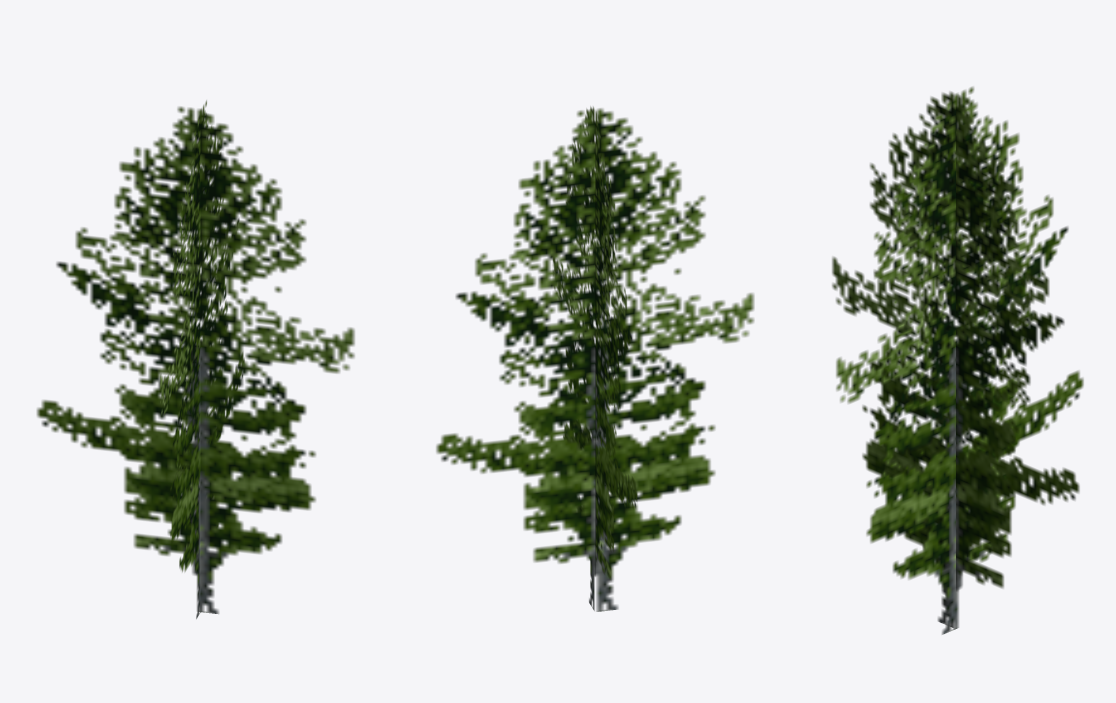
The model's file is tree060.glb.
The picture shows the model from 3 angles, left to right: view 1: azimuth 30°, elevation 25°; view 2: azimuth 150°, elevation 25°; view 3: azimuth 270°, elevation 25°; orthographic projection. The views are drawn at different scales.
Parts seen in each view (by area): view 1: tree060; view 2: tree060; view 3: tree060.
Part boxes in pixels (left/top/right/bottom): tree060: left=37, top=100, right=354, bottom=618; tree060: left=436, top=106, right=754, bottom=611; tree060: left=832, top=87, right=1083, bottom=634.
Bounding box in the file's own units: 2.35 × 5.01 × 2.35.
1 material, 1 textured.
